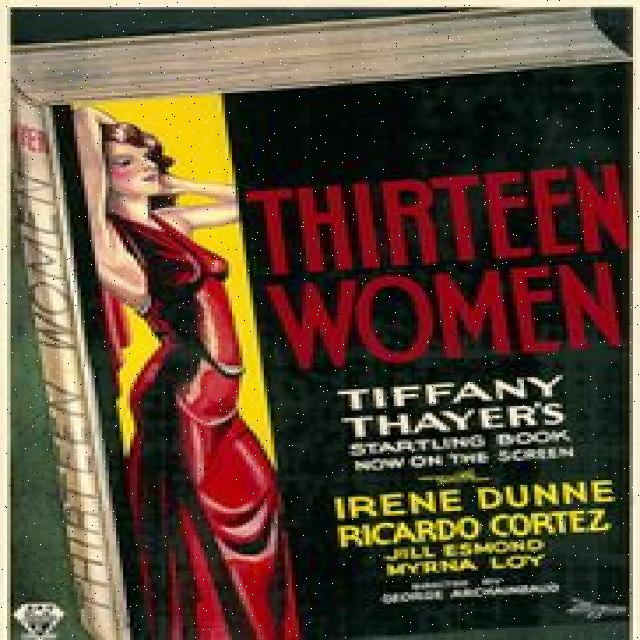movie-judul: (234, 162, 632, 379)
picture: (11, 4, 633, 640)
